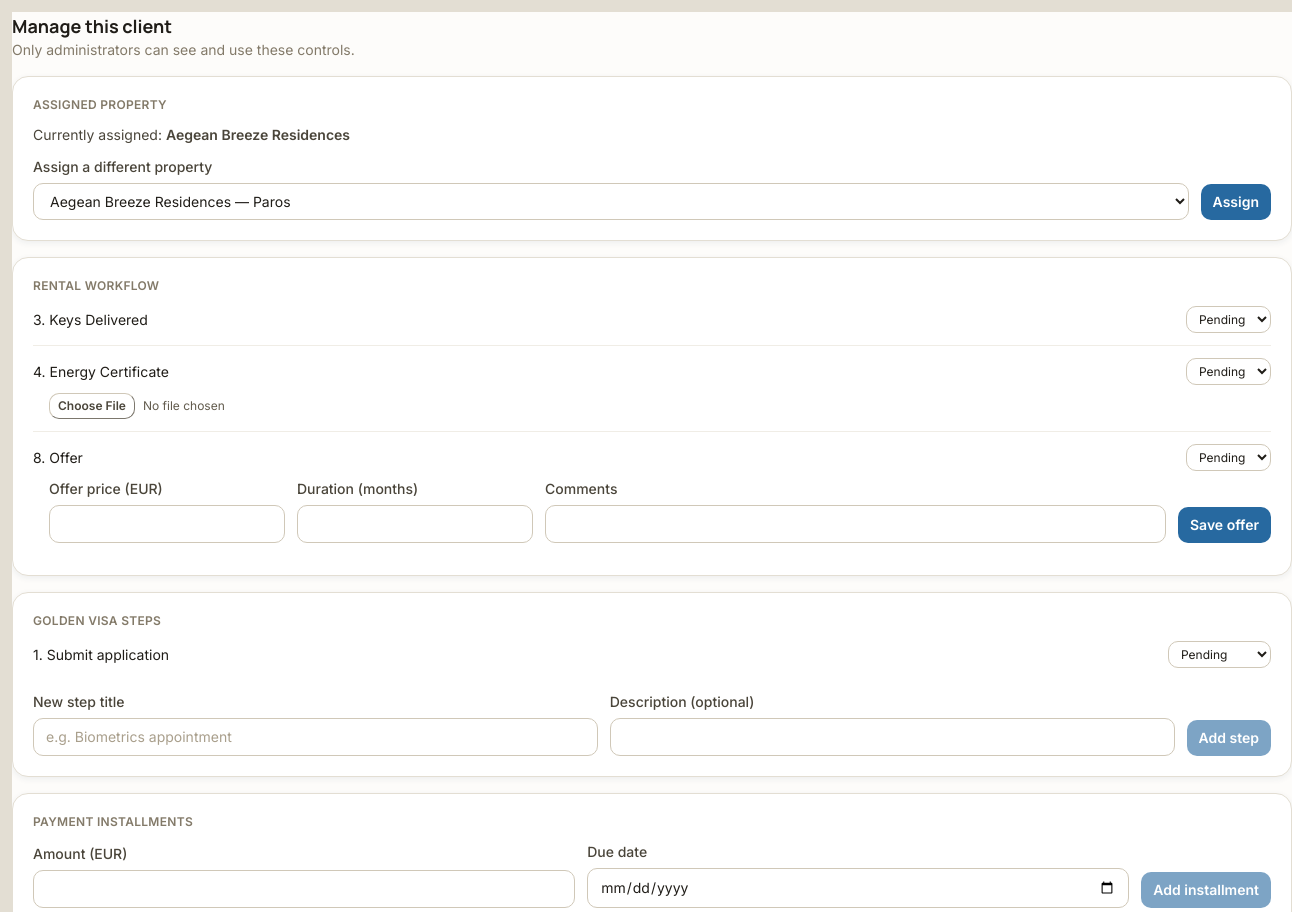
Test: ClientAdminPanel — payment installments › creates an installment against the assigned property, then clears the form
The width and height of the screenshot is (1292, 912).
Step 1. Type "15000" into the number field labelled "Amount (EUR)" → (304, 889), box 33,870 -> 575,908
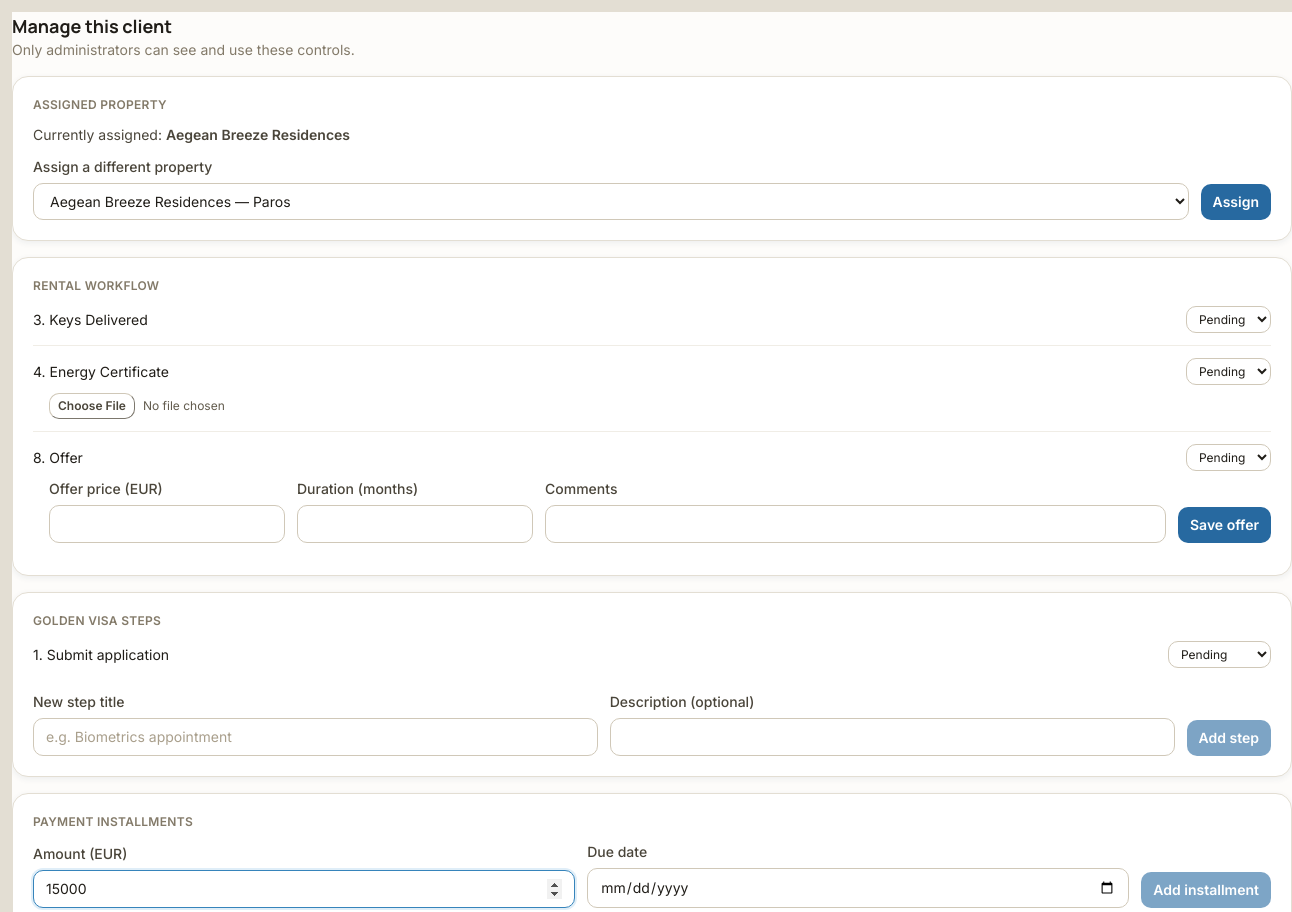
Step 2. Type "2026-09-01" into the date field labelled "Due date" → (858, 888), box 587,868 -> 1129,908
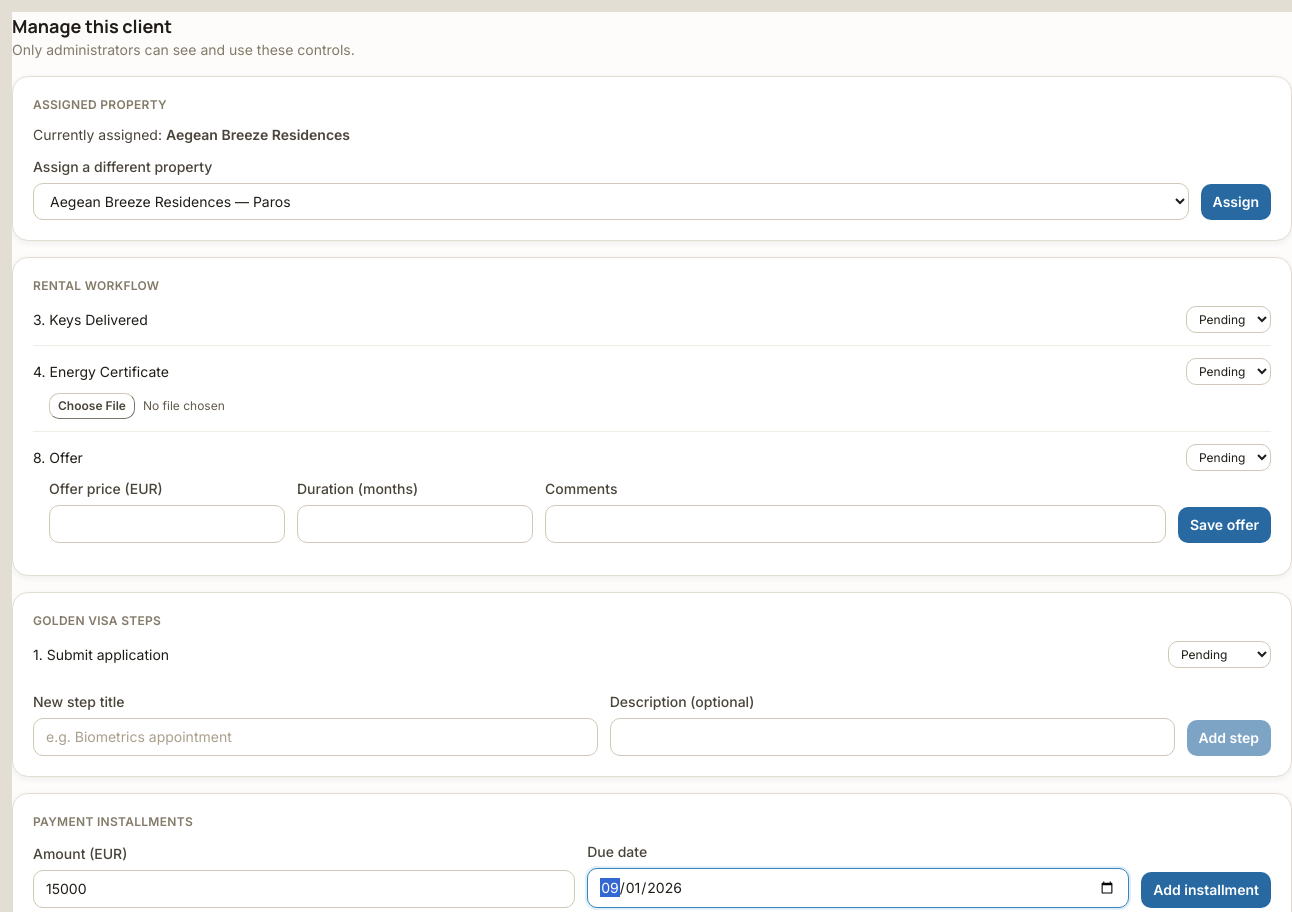
Step 3. Click the button "Add installment" → (1206, 890), box 1141,872 -> 1271,908
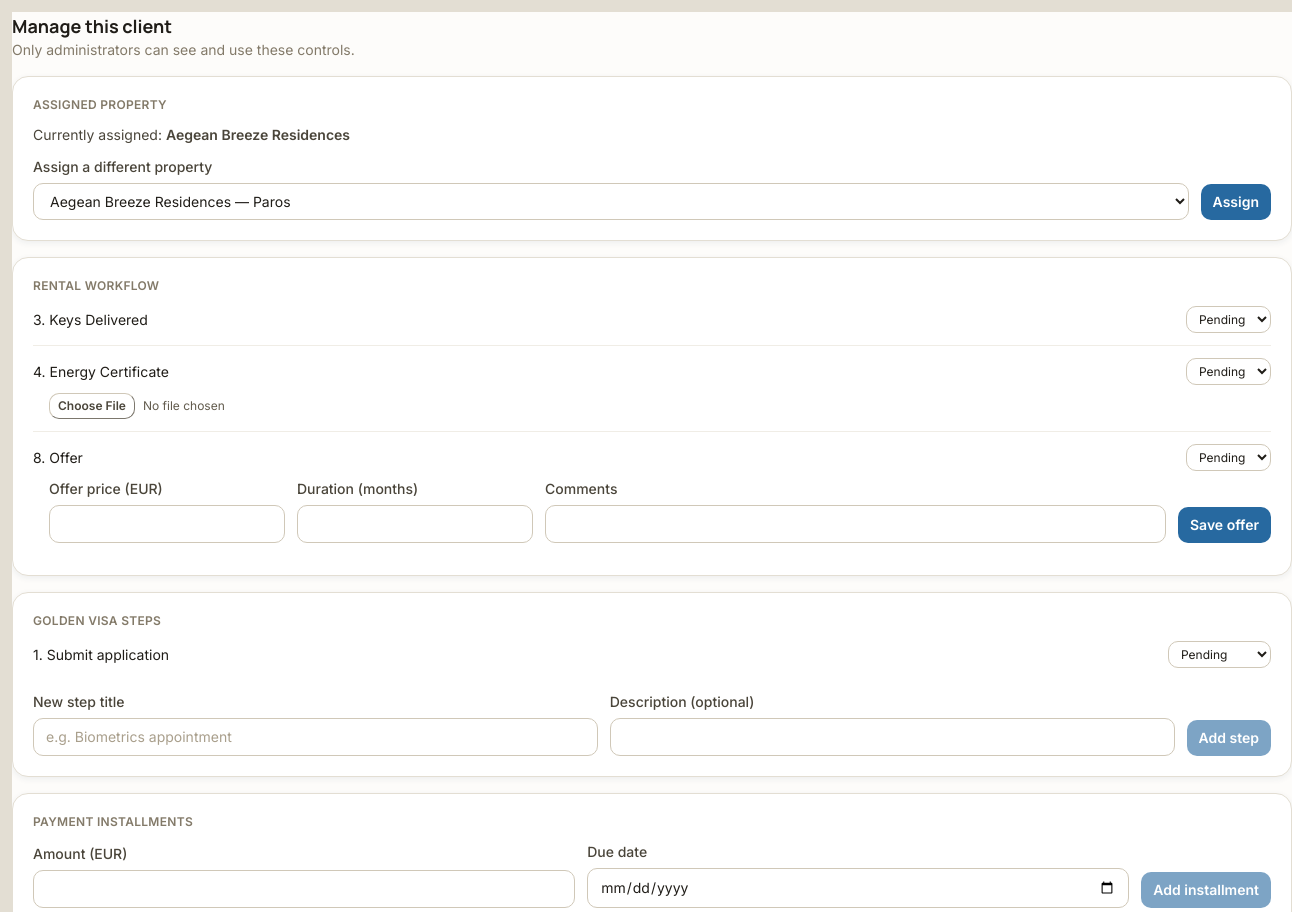
Expected: the number field labelled "Amount (EUR)" is not empty, 33,870 -> 575,908
